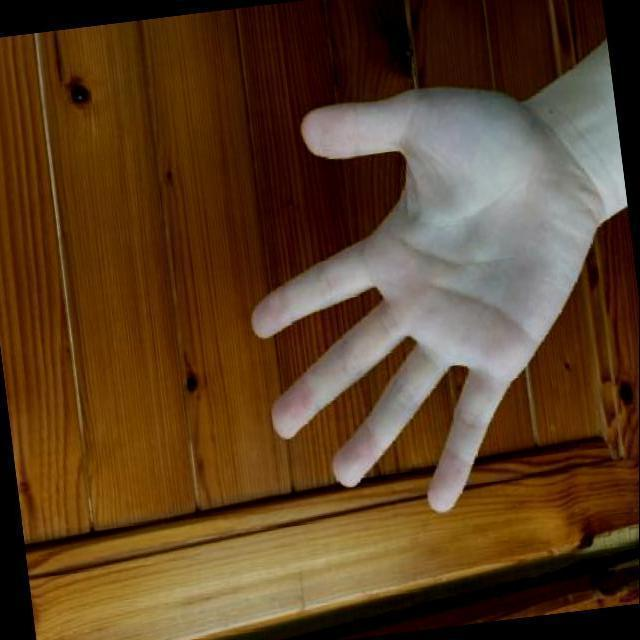hand: (209, 40, 640, 547)
